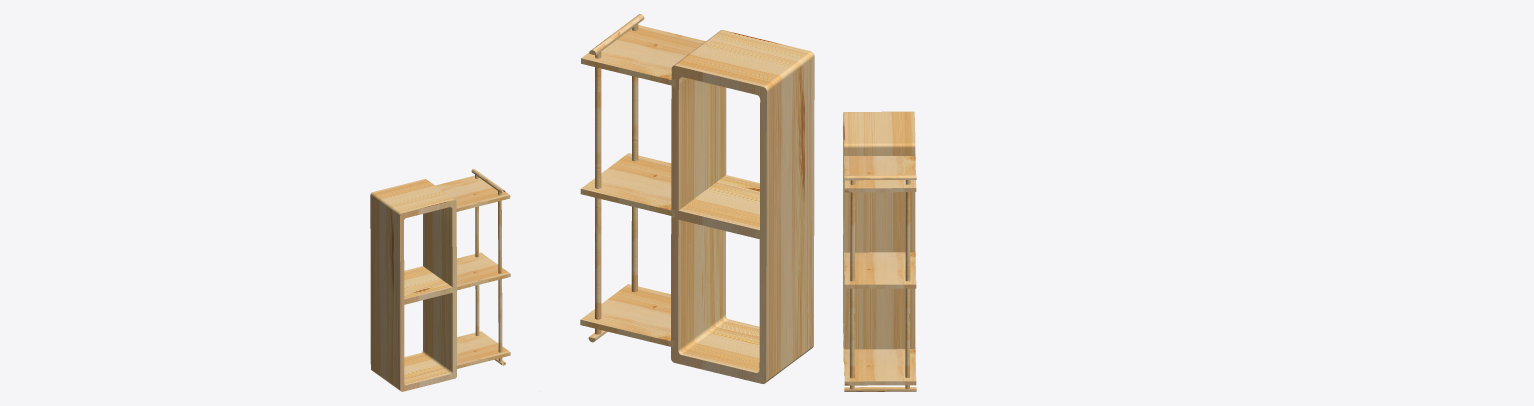
Rendered from asset.glb.
3 views of the same model, side by side, from view 1: azimuth 30°, elevation 25°; view 2: azimuth 150°, elevation 25°; view 3: azimuth 270°, elevation 25° (orthographic). The views are drawn at different scales.
Visible parts, largest first — view 1: object_20, object_13, object_11, object_17, object_9, object_12; view 2: object_20, object_13, object_11, object_17, object_12, object_9, object_7; view 3: object_20, object_17, object_11, object_13, object_12, object_9.
Boxes of the visible parts, x1,y1,x2,y2 form: object_20: [370, 179, 456, 391]; object_13: [435, 175, 510, 213]; object_11: [454, 252, 510, 291]; object_17: [455, 331, 510, 370]; object_9: [498, 191, 502, 361]; object_12: [475, 175, 479, 336]; object_20: [671, 30, 814, 383]; object_13: [581, 25, 705, 87]; object_11: [580, 153, 674, 218]; object_17: [580, 284, 674, 349]; object_12: [595, 52, 601, 334]; object_9: [631, 24, 638, 292]; object_7: [591, 14, 644, 54]; object_20: [843, 111, 915, 363]; object_17: [844, 347, 916, 385]; object_11: [844, 251, 916, 288]; object_13: [844, 154, 916, 192]; object_12: [905, 180, 910, 388]; object_9: [850, 180, 855, 389].
Size of the model in its own units: 33.53 by 29.44 by 72.17.
4 materials, 4 textured.
